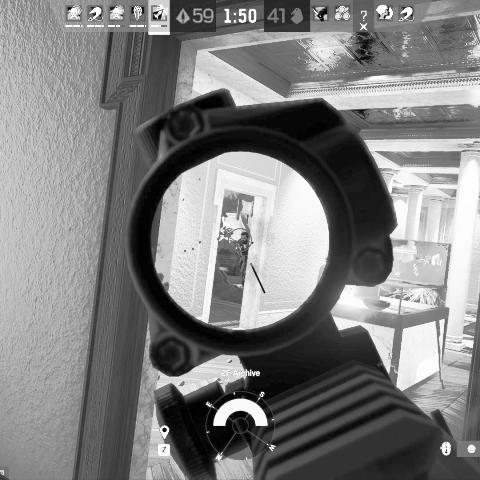Character: (235, 230, 251, 289)
Friend_label: (377, 352, 406, 367)
Head: (240, 231, 250, 243)
